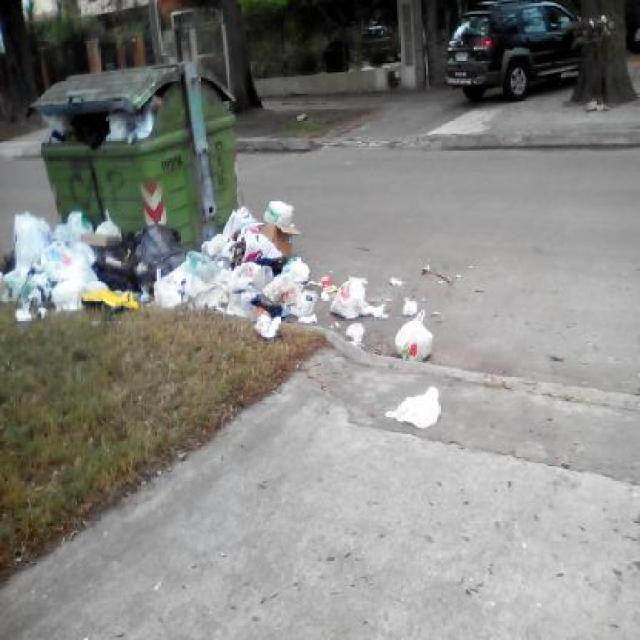garbage: (8, 203, 312, 336), (397, 308, 438, 368), (334, 275, 375, 322)
